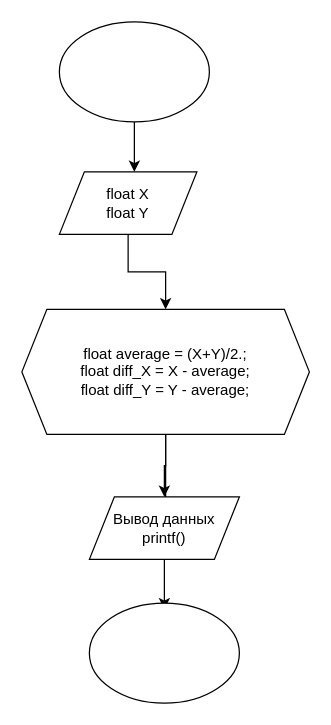
This 331x725 diagram has some shape labels left out. The shapes that lost their labels are listed below. From the top down, each one's centre as x and y in pixels, then its label:
point 133,71: Начало
point 163,652: конец
